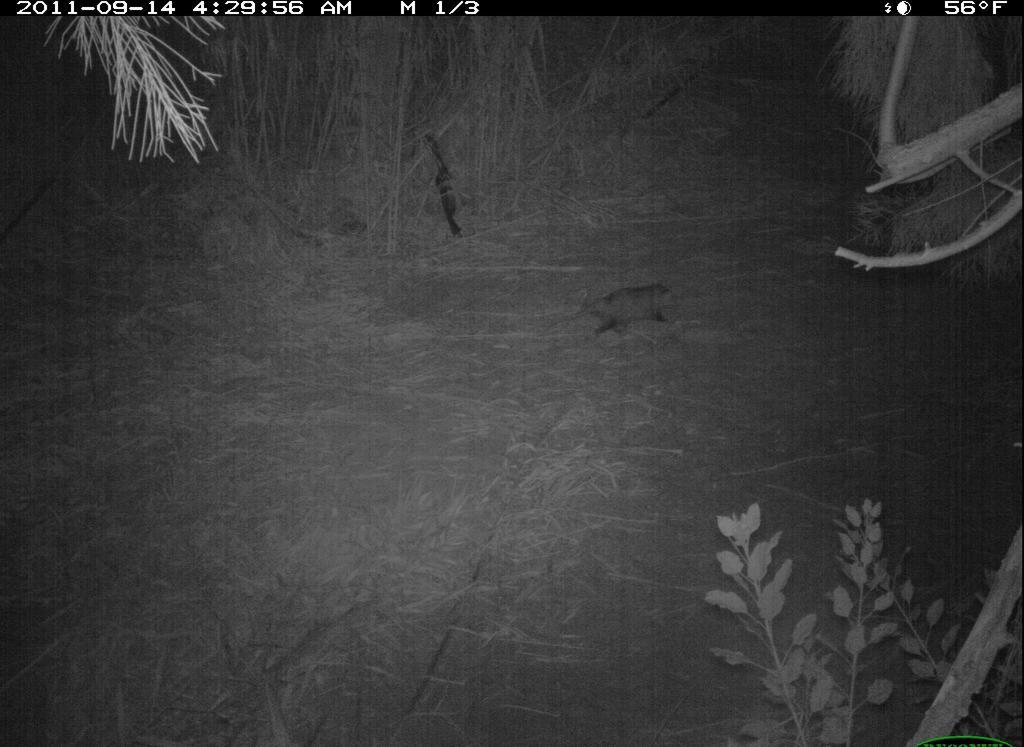opossum: (543, 276, 684, 344)
